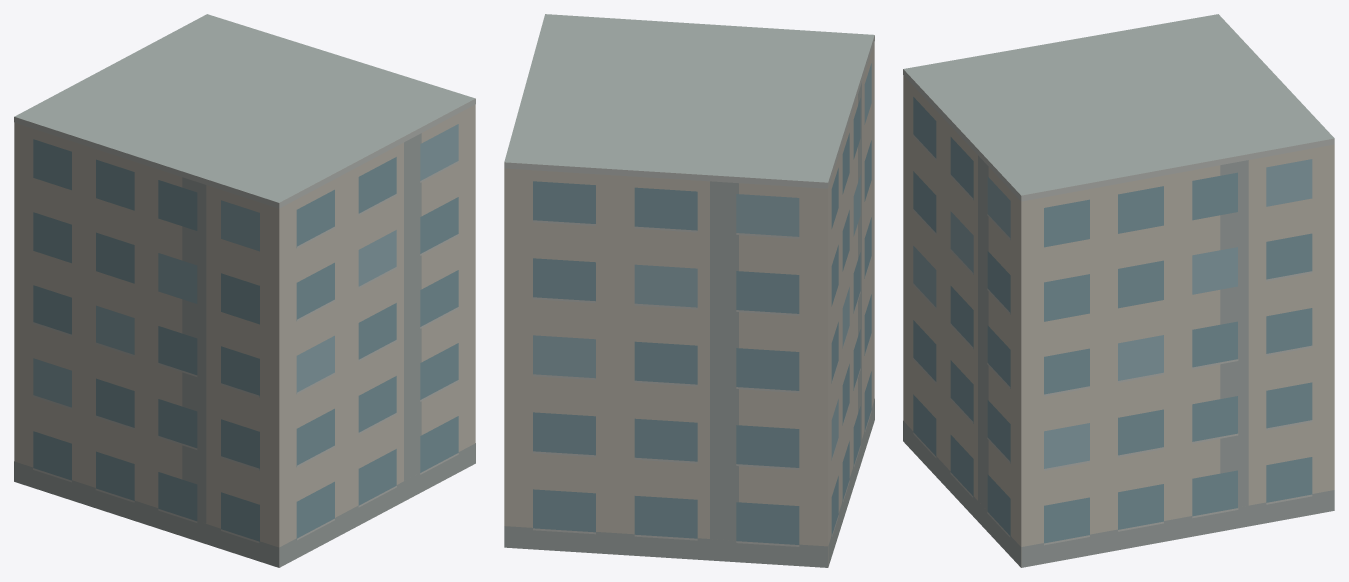
File: survey-upis-32853869.glb
3 renders of one model, left to right at view 1: azimuth 30°, elevation 25°; view 2: azimuth 150°, elevation 25°; view 3: azimuth 270°, elevation 25°, orthographic. The views are drawn at different scales.
Visible parts, largest first — view 1: survey-upis-32853869.tmp; view 2: survey-upis-32853869.tmp; view 3: survey-upis-32853869.tmp.
Part boxes in pixels (x1,y1,x2,y2): survey-upis-32853869.tmp: [14, 14, 475, 567]; survey-upis-32853869.tmp: [504, 14, 874, 567]; survey-upis-32853869.tmp: [903, 14, 1334, 567].
Size of the model in its own units: 16.12 by 15.4 by 16.19.
